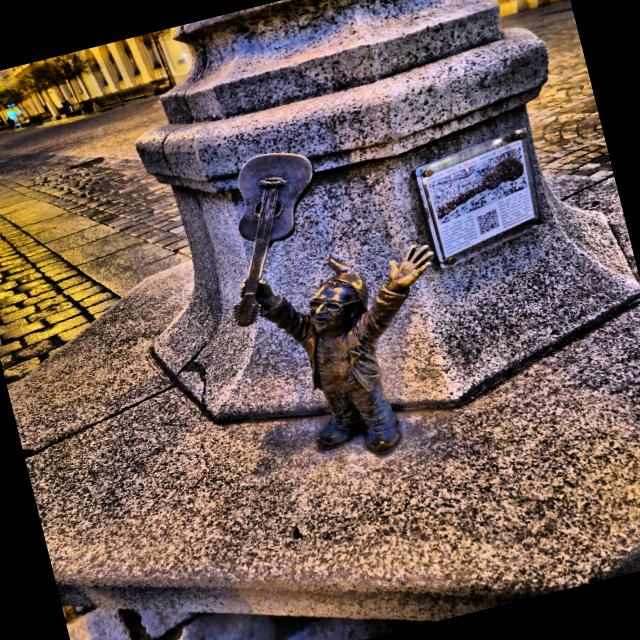Leszko_z_Wroclawia: (234, 153, 434, 456)
